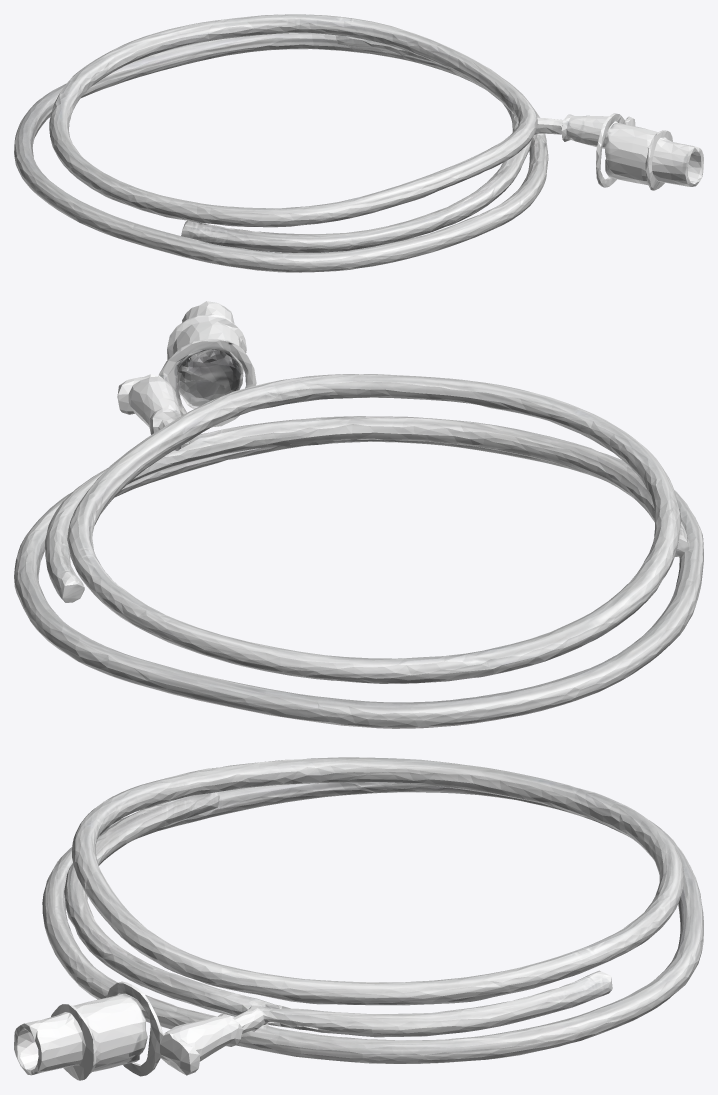
The model's file is Endotracheal_tube_0509144618_texture.obj.
The picture shows the model from 3 angles, top to bottom: view 1: azimuth 30°, elevation 25°; view 2: azimuth 150°, elevation 25°; view 3: azimuth 270°, elevation 25°; orthographic projection. The views are drawn at different scales.
Visible parts, largest first — view 1: Endotracheal_tube_0509144618_texture; view 2: Endotracheal_tube_0509144618_texture; view 3: Endotracheal_tube_0509144618_texture.
Part boxes in pixels (x1,y1,x2,y2): Endotracheal_tube_0509144618_texture: [14, 14, 703, 272]; Endotracheal_tube_0509144618_texture: [14, 301, 703, 728]; Endotracheal_tube_0509144618_texture: [14, 757, 703, 1080].
Size of the model in its own units: 1.99 by 0.2567 by 1.86.
Materials: 1 (1 with a texture image).
